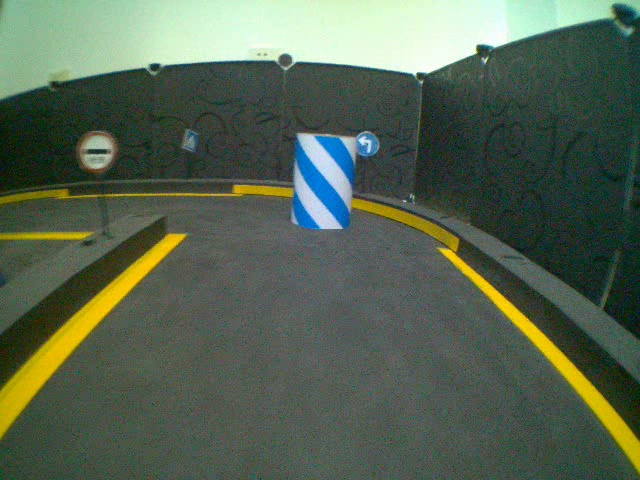bucket: (286, 128, 358, 232)
